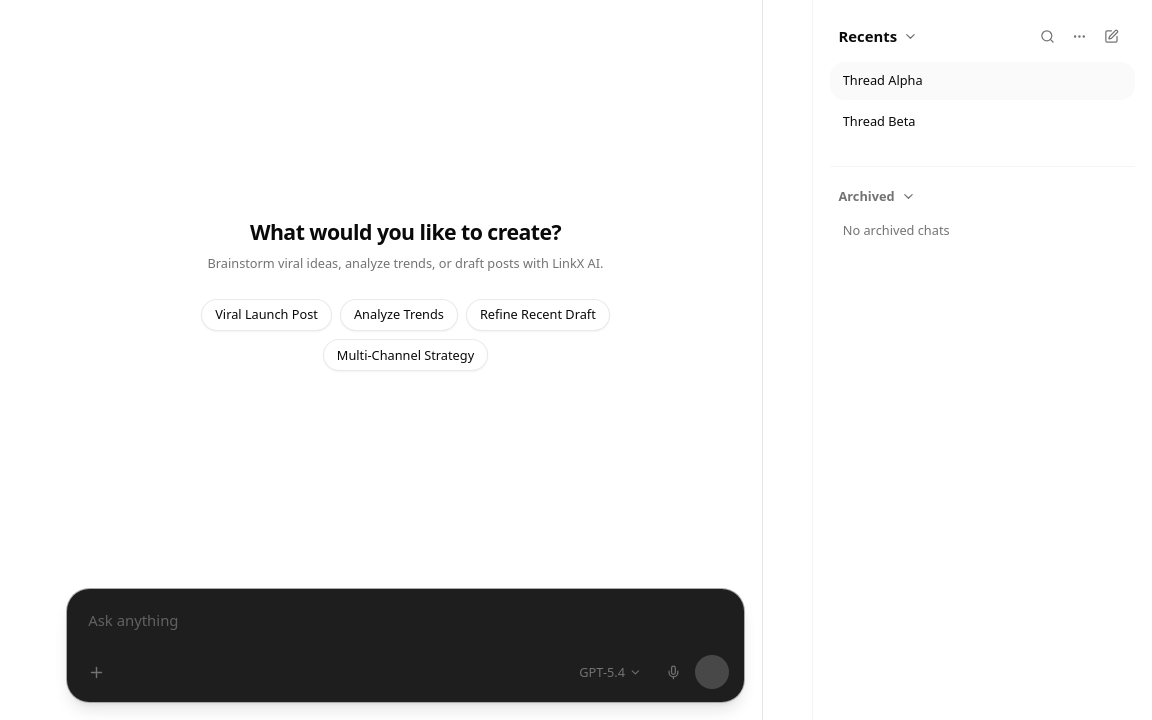
Test case: Multi-thread prompt queuing and stream isolation › can cancel a queued turn in Thread Beta without interrupting active Thread Alpha stream
The image size is (1152, 720).
expect the text "Thread Alpha" is shown: met, box [843, 72, 923, 89]
Type "Prompt on Alpha" into the text box with placeholder "Ask anything" at (406, 623), box [73, 595, 738, 651]
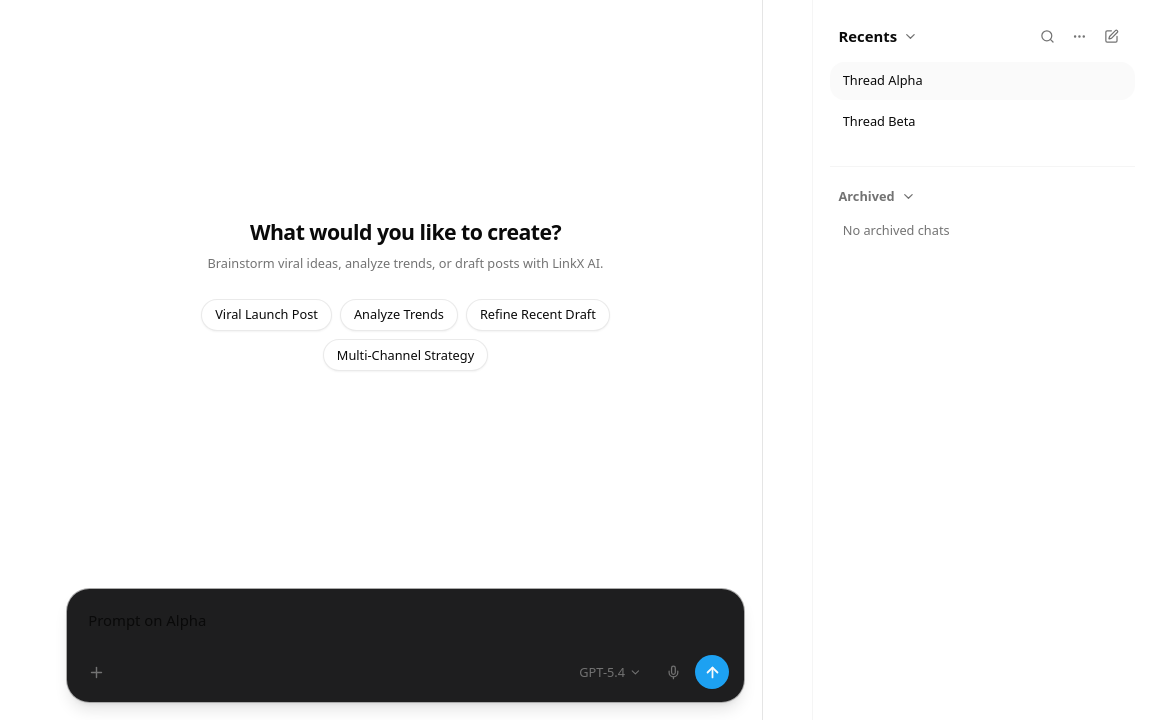
Submit the form with placeholder "Ask anything", box [66, 588, 745, 703]
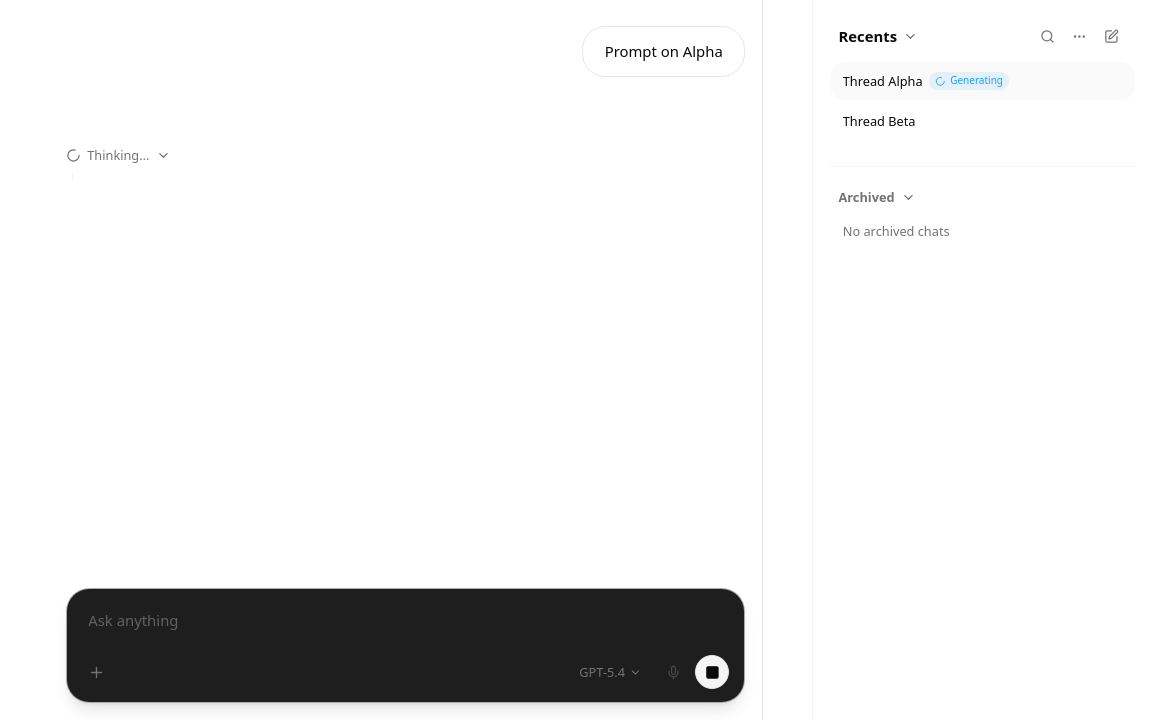
expect the element with test id "thread-generating-badge" is shown: met, box [929, 72, 1009, 90]
Click the button "Thread Beta" at (956, 122), box [843, 109, 1069, 134]
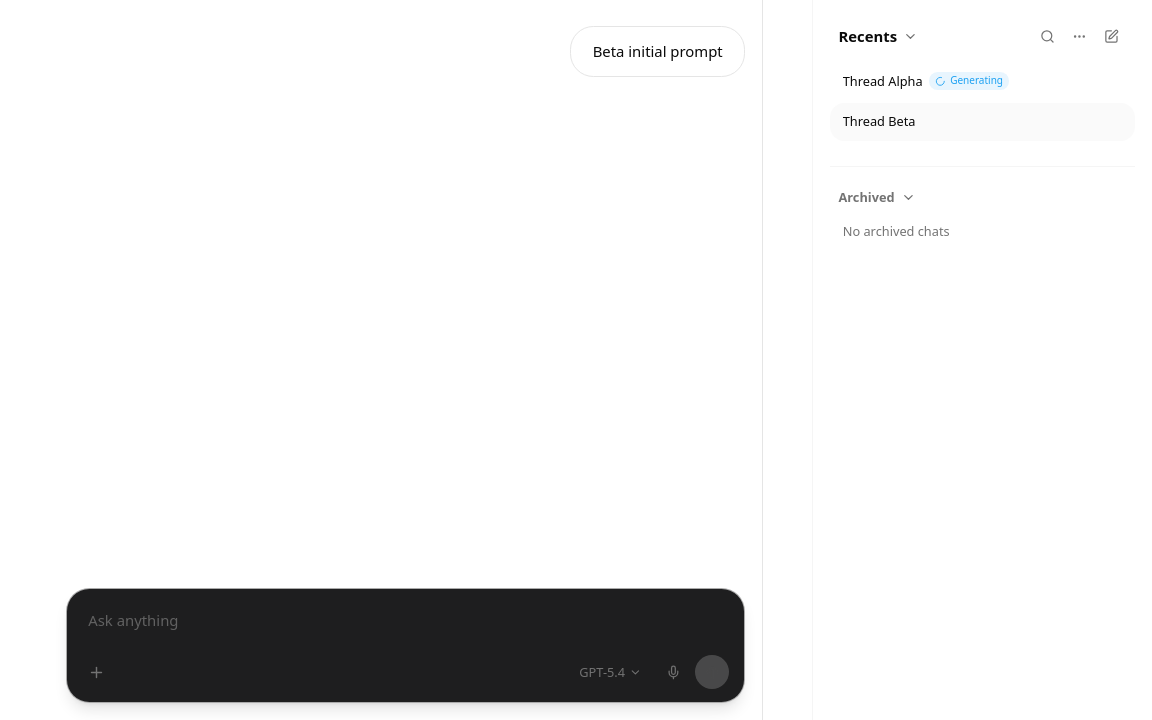
expect the button "Beta initial prompt" is shown: met, box [570, 26, 745, 77]
Type "Queued prompt on Beta" into the text box with placeholder "Ask anything" at (406, 623), box [73, 595, 738, 651]
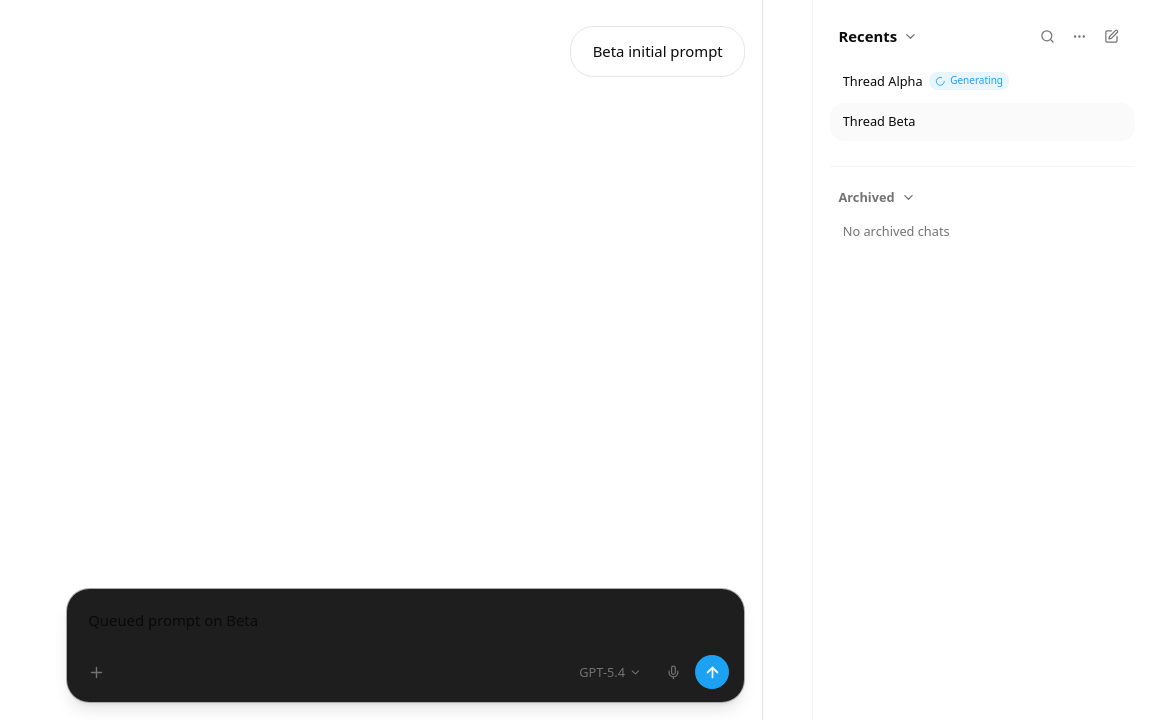
Submit the form with placeholder "Ask anything", box [66, 588, 745, 703]
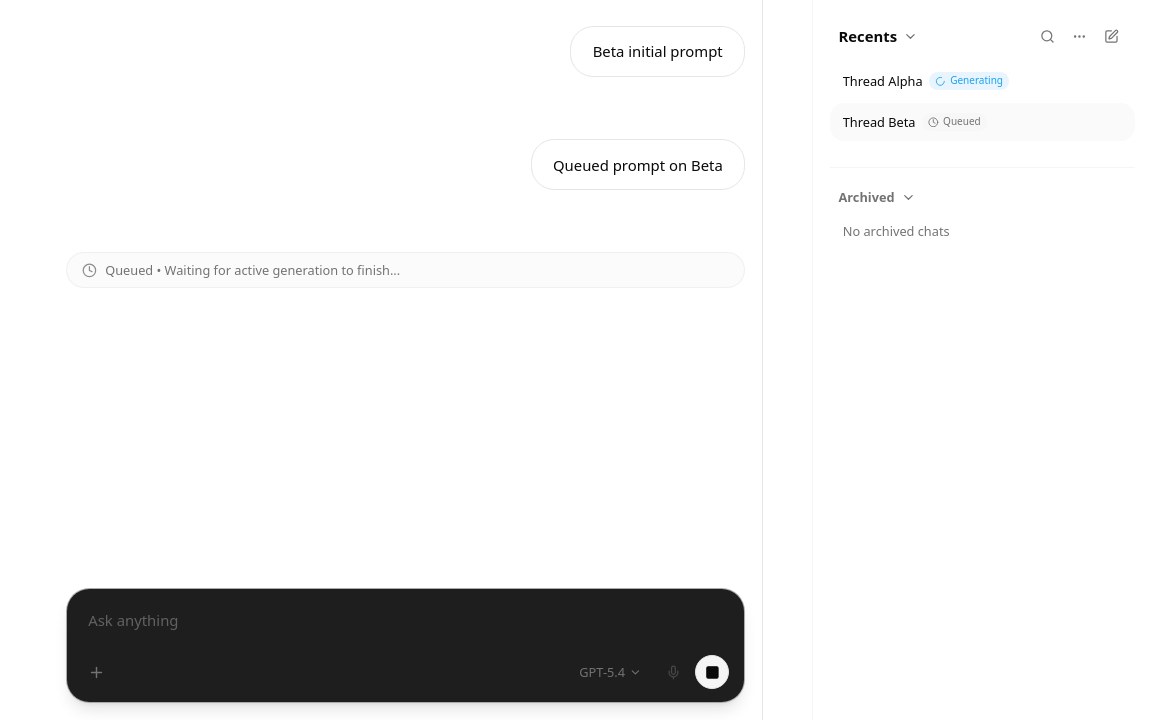
expect the text box "Queued prompt on Beta" is shown: met, box [73, 595, 738, 651]
expect the text "Queued • Waiting for active generation to finish..." is shown: met, box [105, 262, 400, 279]
Click the button named "stop generating" at (712, 672), box [695, 655, 729, 689]
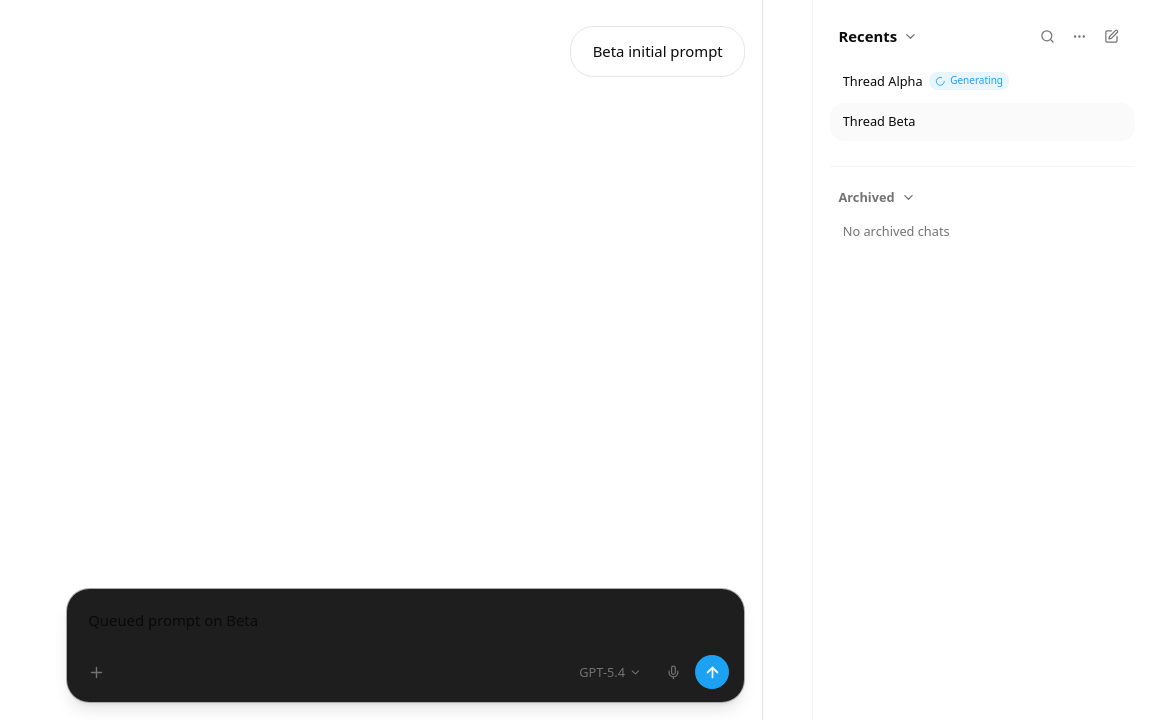
expect the element with test id "thread-generating-badge" is shown: met, box [929, 72, 1009, 90]
expect the text "Queued • Waiting for active generation to finish..." is gone: met
